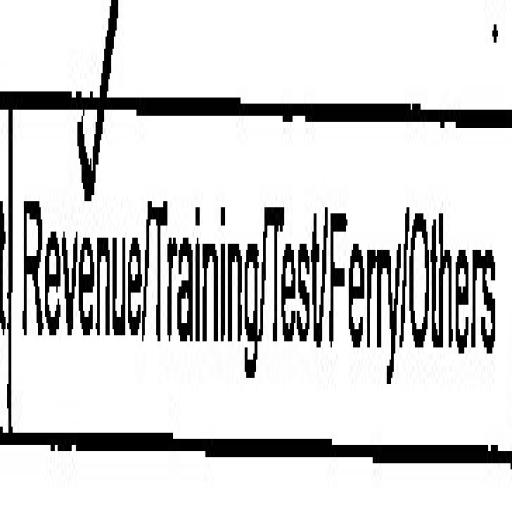check: (8, 0, 144, 482)
